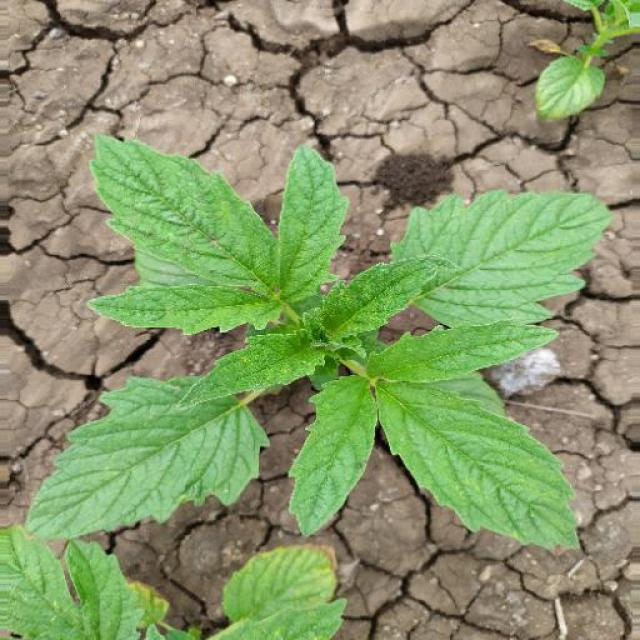crop: (66, 125, 590, 567)
